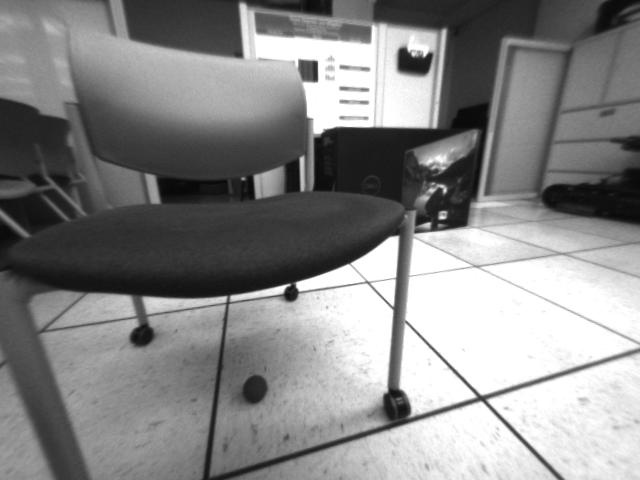dogtoy: (236, 369, 273, 406)
